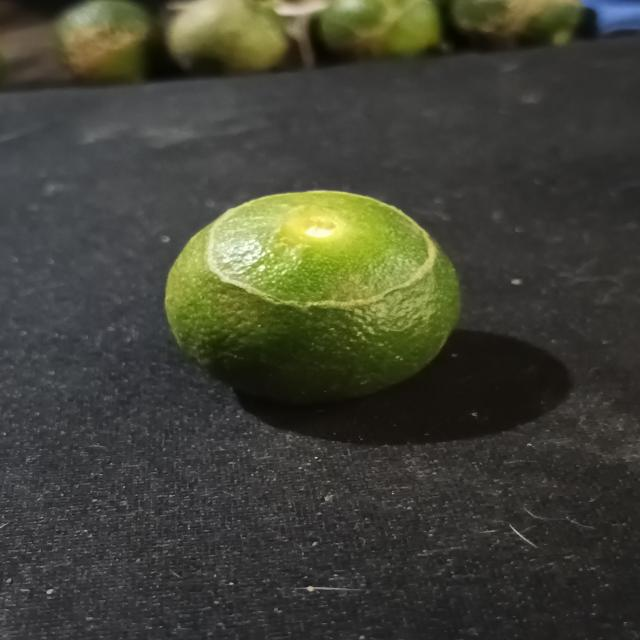thrips: (165, 187, 471, 408)
